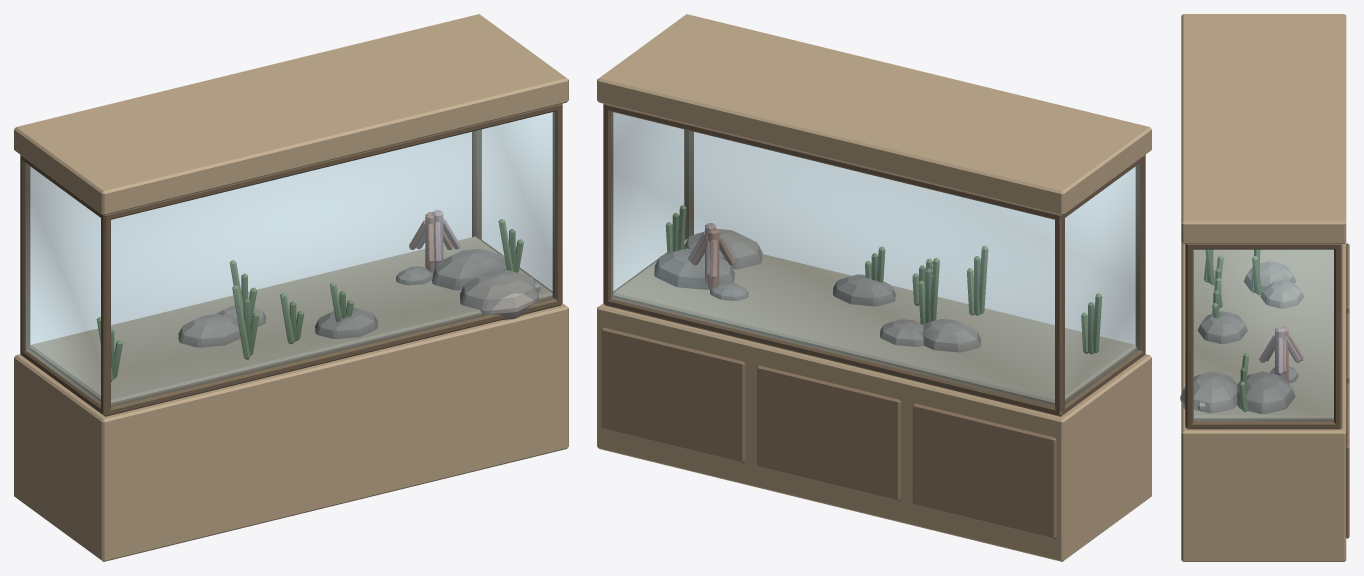
File: furn_aquarium_big__oak.glb
3 views of the same model, side by side, from view 1: azimuth 30°, elevation 25°; view 2: azimuth 150°, elevation 25°; view 3: azimuth 270°, elevation 25° (orthographic). The views are drawn at different scales.
Bounding box in the file's own units: 2.4 × 1.82 × 0.8194.
